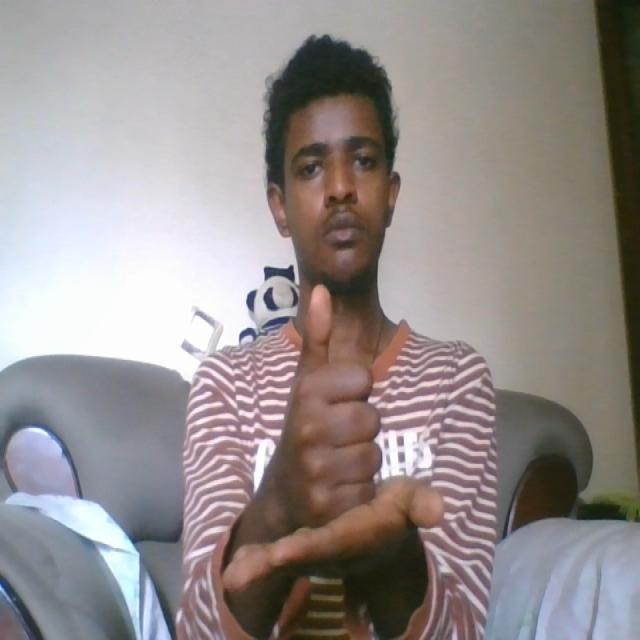amen: (216, 274, 448, 594)
